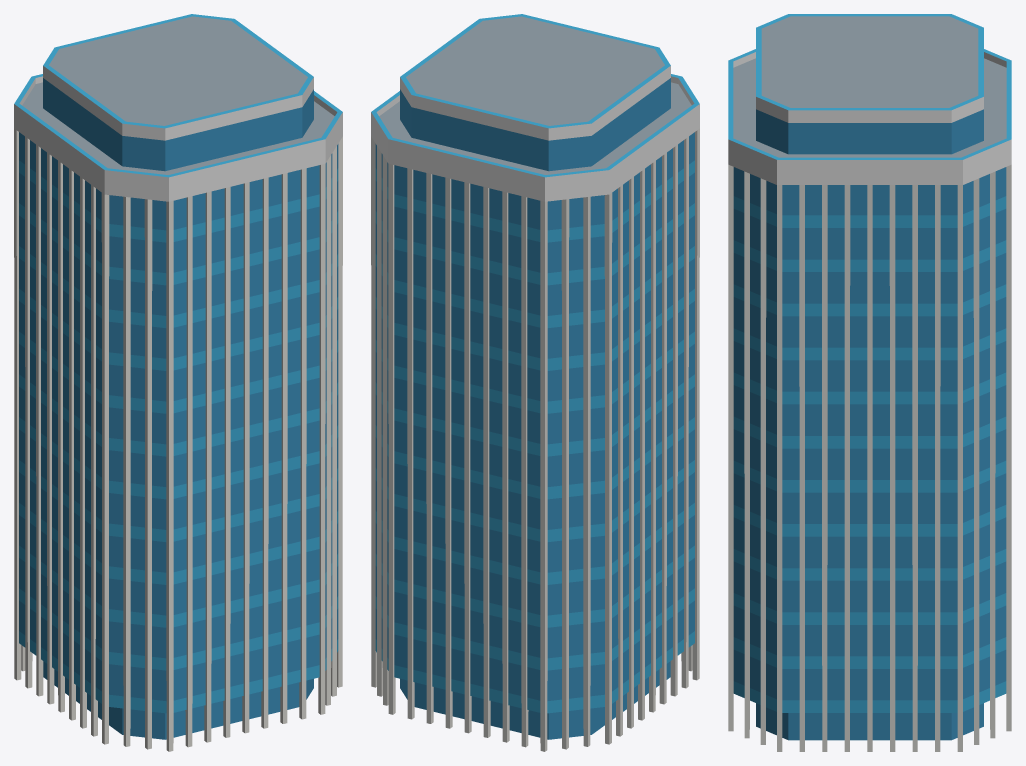
Rendered from skyscraper_large.fbx.
3 views of the same model, side by side, from view 1: azimuth 30°, elevation 25°; view 2: azimuth 150°, elevation 25°; view 3: azimuth 270°, elevation 25° (orthographic). The views are drawn at different scales.
Parts seen in each view (by area): view 1: skyscraper_large; view 2: skyscraper_large; view 3: skyscraper_large.
Part boxes in pixels (x1,y1,x2,y2): skyscraper_large: (14,14,342,751); skyscraper_large: (371,14,699,751); skyscraper_large: (728,14,1011,751).
Size of the model in its own units: 300 by 735 by 300.
